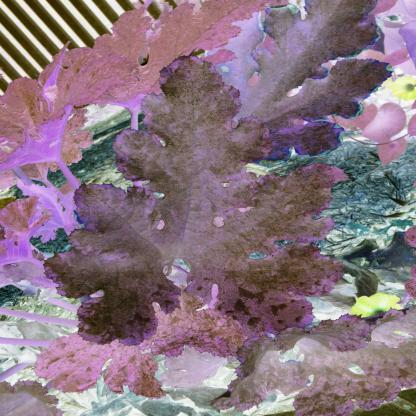Squash Powdery mildew leaf: (34, 60, 334, 344), (242, 0, 396, 160), (228, 314, 416, 410)
